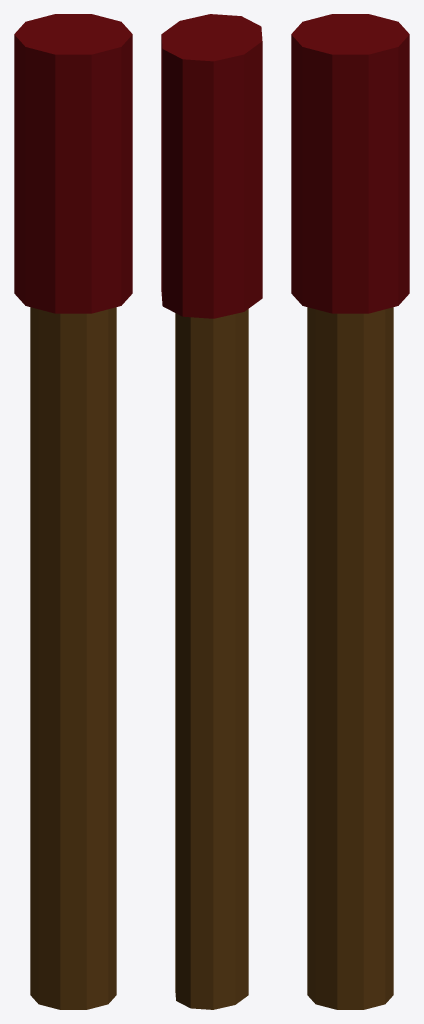
The model's file is Lever.fbx.
3 views of the same model, side by side, from view 1: azimuth 90°, elevation 25°; view 2: azimuth 150°, elevation 25°; view 3: azimuth 270°, elevation 25° (orthographic).
Visible parts, largest first — view 1: Lever; view 2: Lever; view 3: Lever.
Part boxes in pixels (bbox=[...]): Lever: bbox=[14, 14, 132, 1009]; Lever: bbox=[161, 14, 262, 1009]; Lever: bbox=[291, 14, 409, 1009].
Size of the model in its own units: 17.21 by 190 by 21.23.
